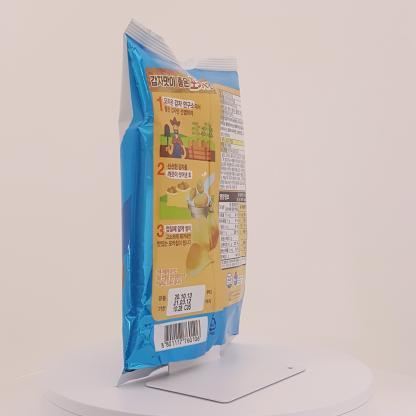Plastic Packaging: (92, 6, 272, 398)
